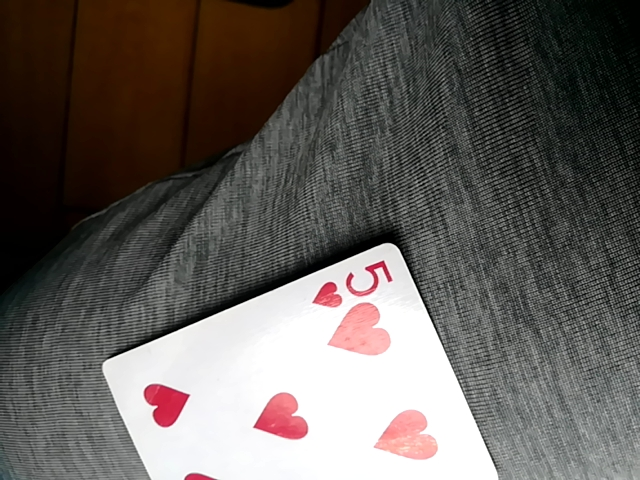hx 5: (100, 242, 491, 478)
